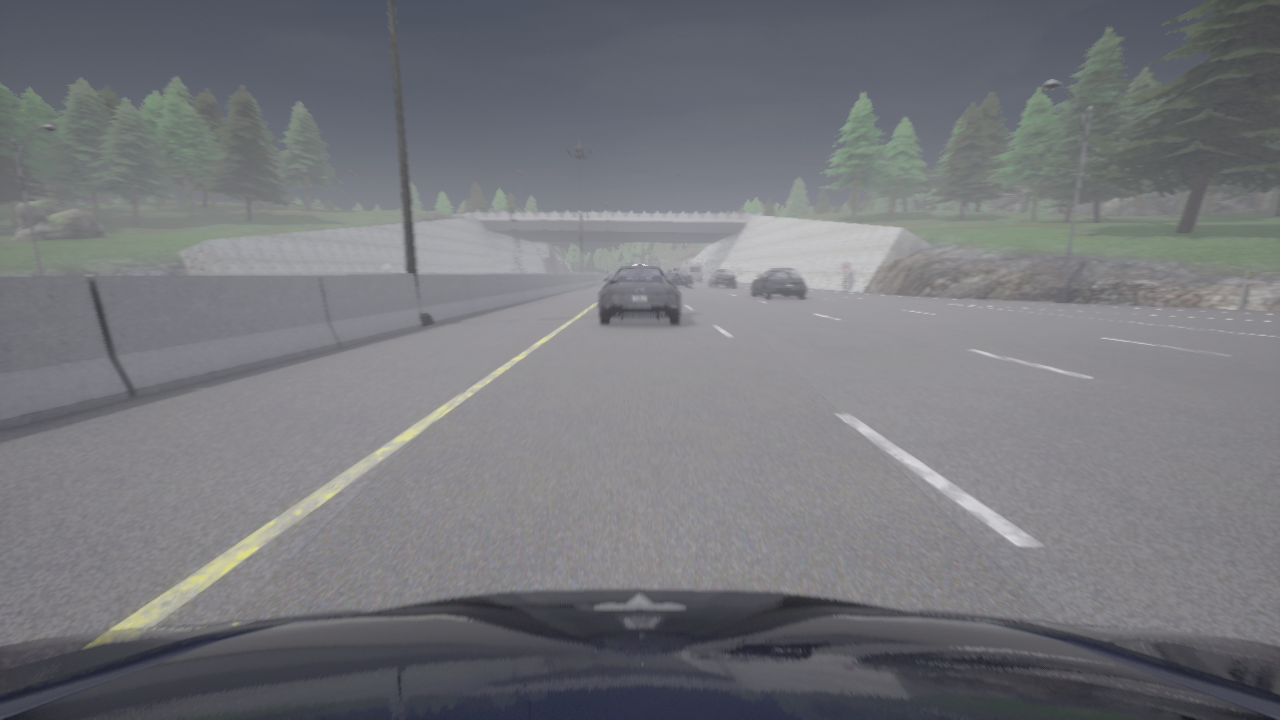cyclist: (0, 588, 1279, 719), (599, 267, 680, 324), (751, 270, 807, 298), (668, 268, 692, 287), (709, 270, 735, 287), (685, 262, 702, 282), (770, 267, 800, 276), (665, 269, 673, 277), (631, 263, 648, 266)
